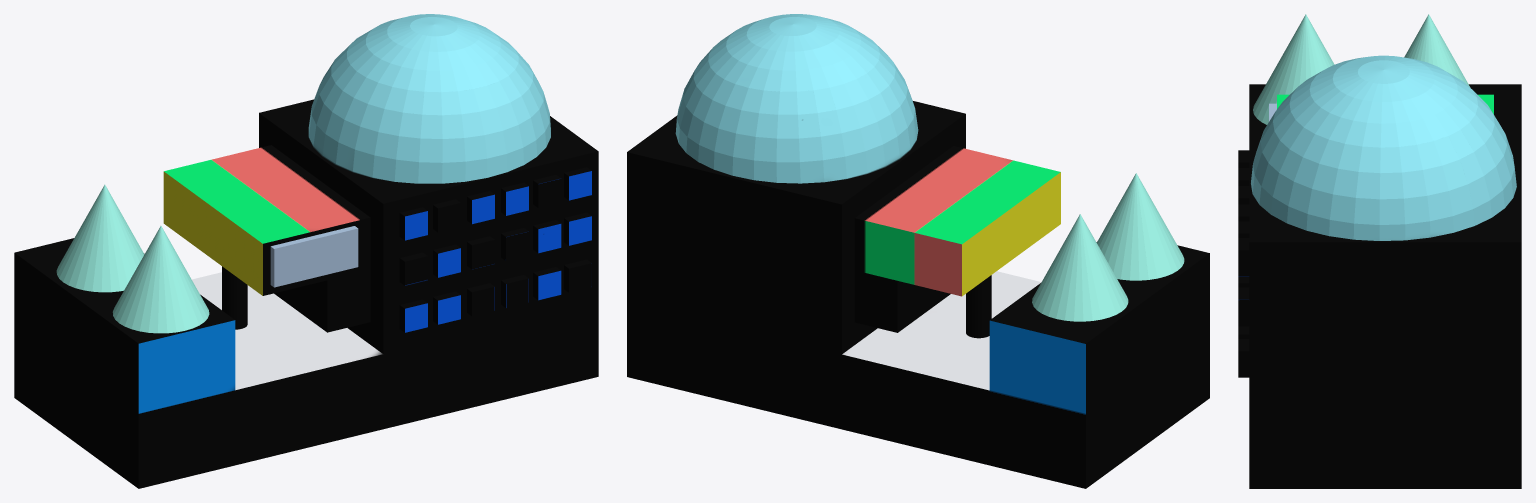
Rendered from parliament.fbx.
3 renders of one model, left to right at view 1: azimuth 30°, elevation 25°; view 2: azimuth 150°, elevation 25°; view 3: azimuth 270°, elevation 25°, orthographic. The views are drawn at different scales.
Visible parts, largest first — view 1: Cube; view 2: Cube; view 3: Cube.
Boxes of the visible parts, bbox=[...] form: Cube: bbox=[14, 14, 598, 488]; Cube: bbox=[627, 14, 1209, 488]; Cube: bbox=[1238, 14, 1521, 488].
Bounding box in the file's own units: 907 × 627 × 442.
